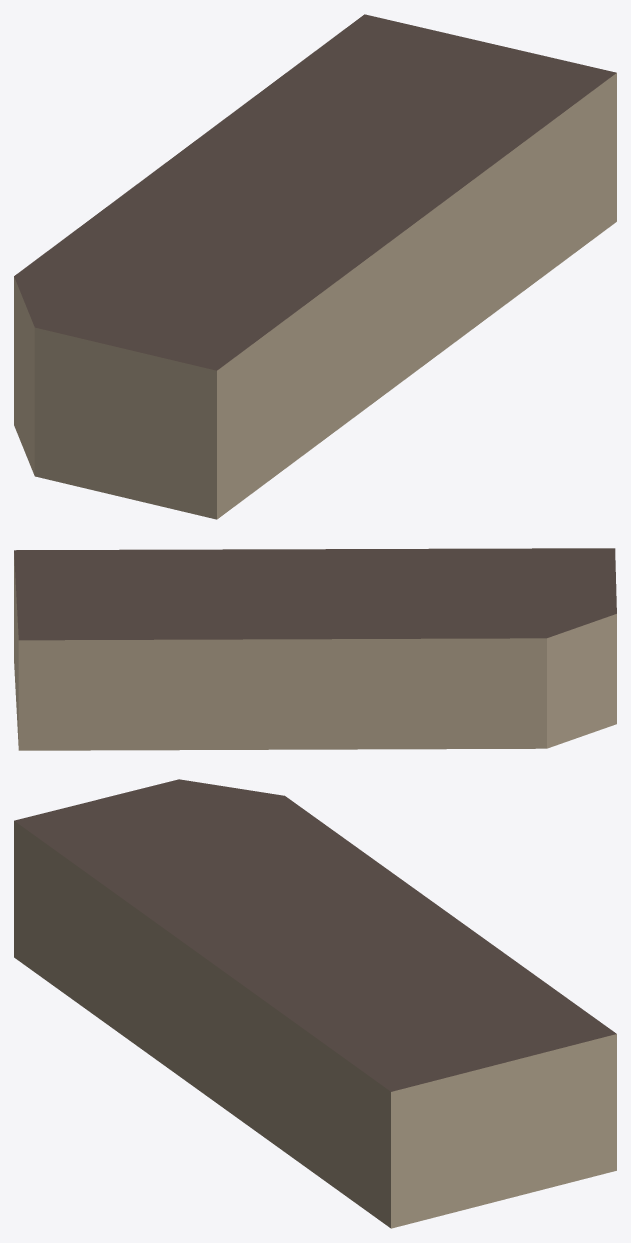
3 renders of one model, top to bottom at view 1: azimuth 30°, elevation 25°; view 2: azimuth 150°, elevation 25°; view 3: azimuth 270°, elevation 25°, orthographic. The views are drawn at different scales.
Parts seen in each view (by area): view 1: HP-w369237885; view 2: HP-w369237885; view 3: HP-w369237885.
Part boxes in pixels (x1=…): HP-w369237885: x1=14, y1=14, x2=616, y2=519; HP-w369237885: x1=14, y1=548, x2=616, y2=750; HP-w369237885: x1=14, y1=779, x2=616, y2=1228.
Bounding box in the file's own units: 44.13 × 9 × 35.97.
